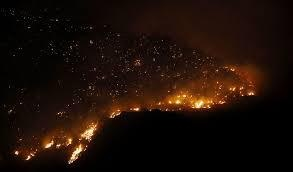fire: (66, 120, 96, 162)
